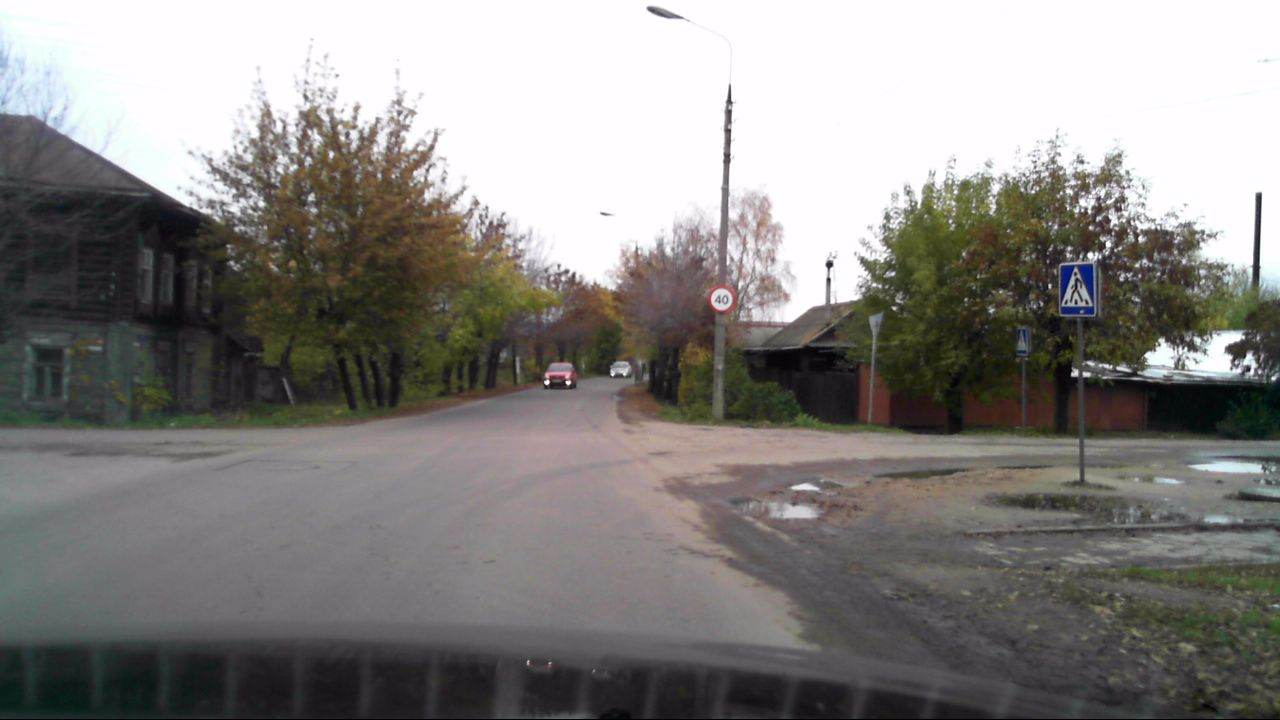speed_warning_40: (707, 284, 736, 314)
